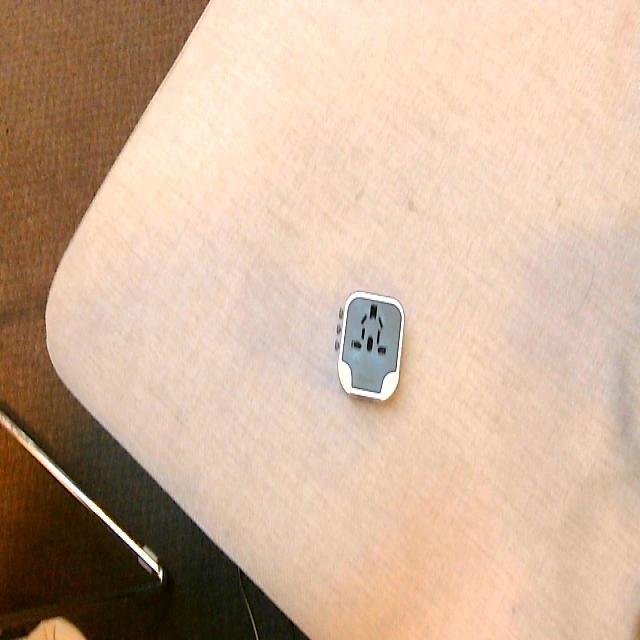adapter: (334, 289, 404, 402)
